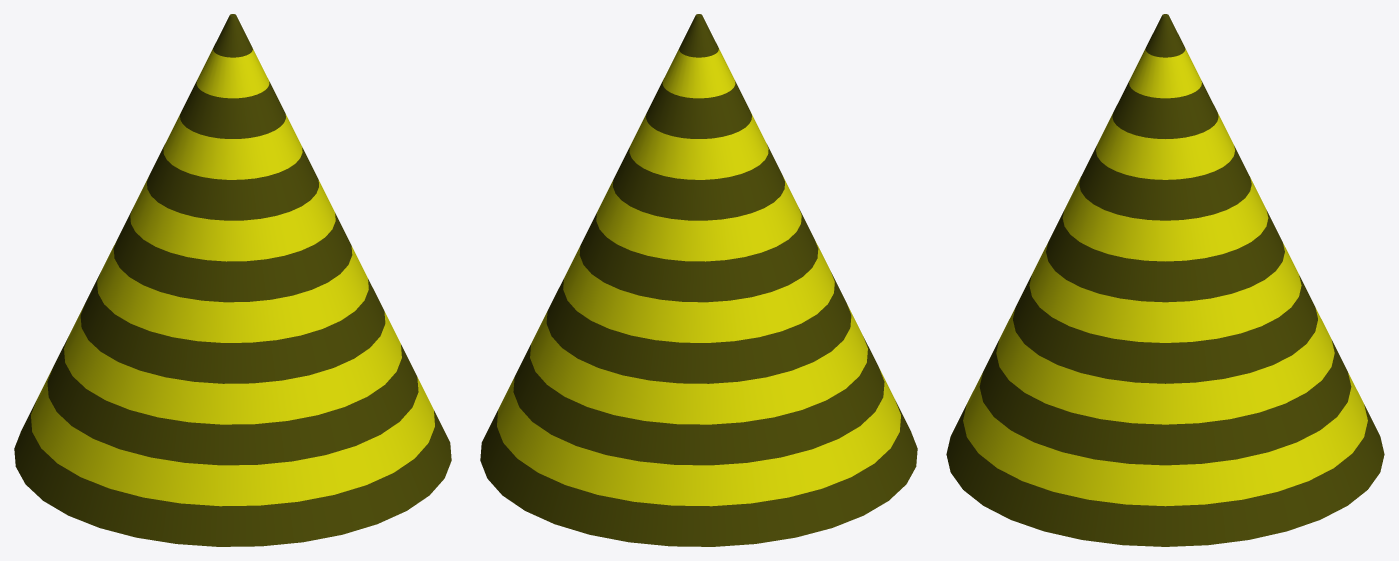
File: chapeuDeaniversario.gltf
The picture shows the model from 3 angles, left to right: view 1: azimuth 30°, elevation 25°; view 2: azimuth 150°, elevation 25°; view 3: azimuth 270°, elevation 25°; orthographic projection.
Visible parts, largest first — view 1: Cylinder; view 2: Cylinder; view 3: Cylinder.
Boxes of the visible parts, <box> form: Cylinder: <box>14,14,451,546</box>; Cylinder: <box>480,14,917,546</box>; Cylinder: <box>946,14,1384,546</box>.
Bounding box in the file's own units: 0.1784 × 0.1973 × 0.1784.
